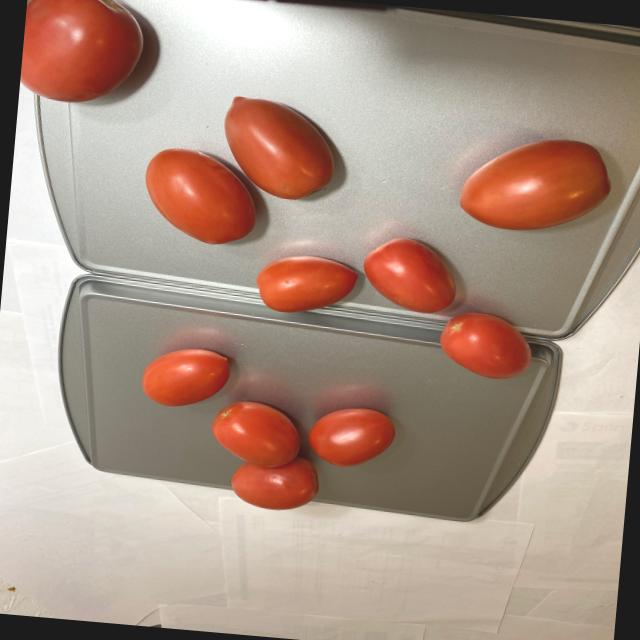tomato: (0, 0, 621, 384), (128, 343, 402, 519)
